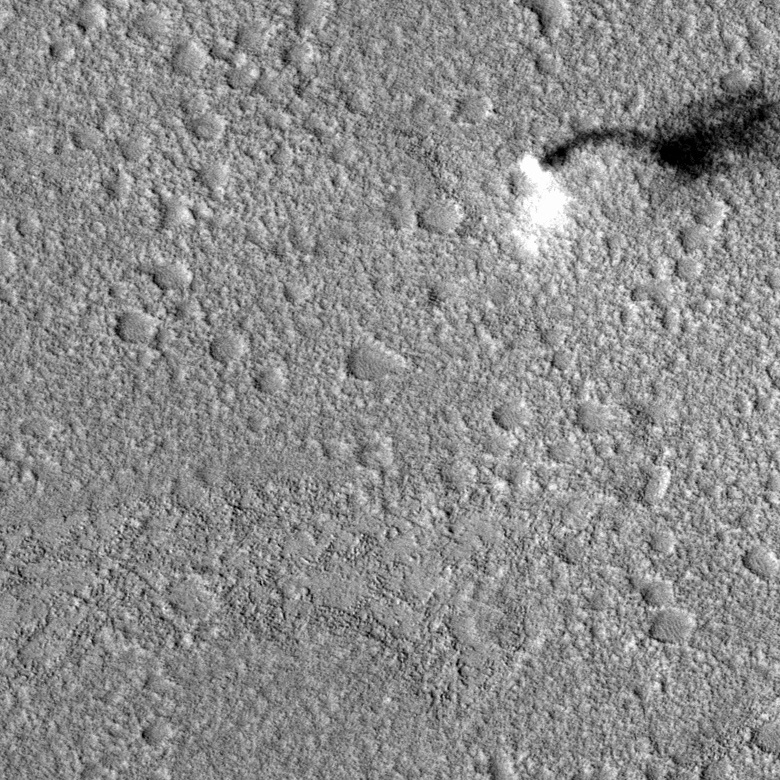dust_devil: (508, 73, 780, 260)
